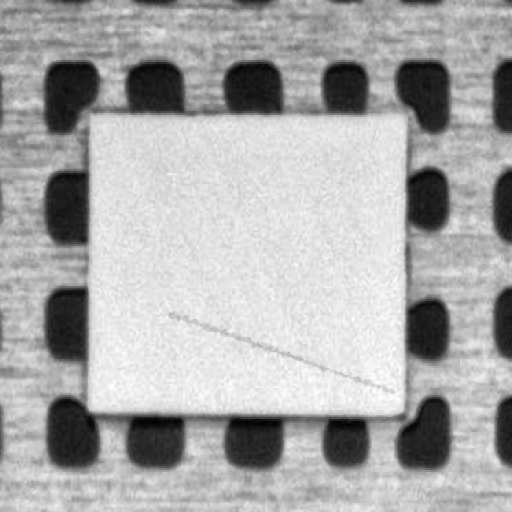DIE_CRACK: (222, 235, 512, 293)
